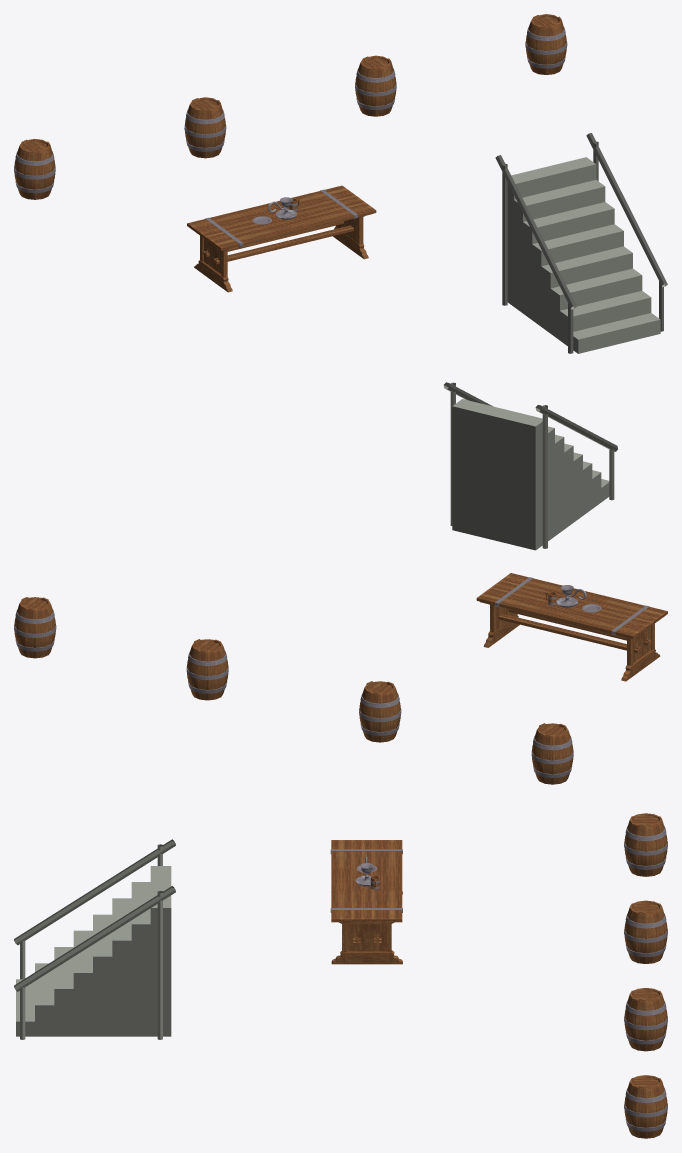
The model's file is realm_greyhaven_0_cellar.gltf.
The picture shows the model from 3 angles, top to bottom: view 1: azimuth 30°, elevation 25°; view 2: azimuth 150°, elevation 25°; view 3: azimuth 270°, elevation 25°; orthographic projection. The views are drawn at different scales.
Parts seen in each view (by area): view 1: 45953f178b02cb3132a708f7d1eb19bcfa1b9f787b3f4d9feb3279d95a35, cf4033cb853c44a487397970d48170db13d9e081d1dc04f79877a0a818a9 (×4), f4b04e3619cf212187b96076e7e940da50275113f8897ecbcd59f5921342; view 2: 45953f178b02cb3132a708f7d1eb19bcfa1b9f787b3f4d9feb3279d95a35, cf4033cb853c44a487397970d48170db13d9e081d1dc04f79877a0a818a9 (×4), f4b04e3619cf212187b96076e7e940da50275113f8897ecbcd59f5921342; view 3: 45953f178b02cb3132a708f7d1eb19bcfa1b9f787b3f4d9feb3279d95a35, cf4033cb853c44a487397970d48170db13d9e081d1dc04f79877a0a818a9 (×4), f4b04e3619cf212187b96076e7e940da50275113f8897ecbcd59f5921342.
Part boxes in pixels (x1,y1,x2,y2): 45953f178b02cb3132a708f7d1eb19bcfa1b9f787b3f4d9feb3279d95a35: (495,133,667,353); cf4033cb853c44a487397970d48170db13d9e081d1dc04f79877a0a818a9 (×4): (14,14,567,199); f4b04e3619cf212187b96076e7e940da50275113f8897ecbcd59f5921342: (187,185,376,292); 45953f178b02cb3132a708f7d1eb19bcfa1b9f787b3f4d9feb3279d95a35: (443,382,617,550); cf4033cb853c44a487397970d48170db13d9e081d1dc04f79877a0a818a9 (×4): (14,597,573,784); f4b04e3619cf212187b96076e7e940da50275113f8897ecbcd59f5921342: (476,573,667,681); 45953f178b02cb3132a708f7d1eb19bcfa1b9f787b3f4d9feb3279d95a35: (14,839,175,1039); cf4033cb853c44a487397970d48170db13d9e081d1dc04f79877a0a818a9 (×4): (624,813,667,1138); f4b04e3619cf212187b96076e7e940da50275113f8897ecbcd59f5921342: (330,840,402,964).
Size of the model in its own units: 9.64 by 2.44 by 9.5.
Materials: 9 (8 with a texture image).
